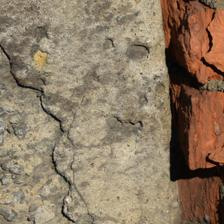Crack: (0, 8, 91, 75), (0, 49, 64, 121), (78, 21, 143, 54)
